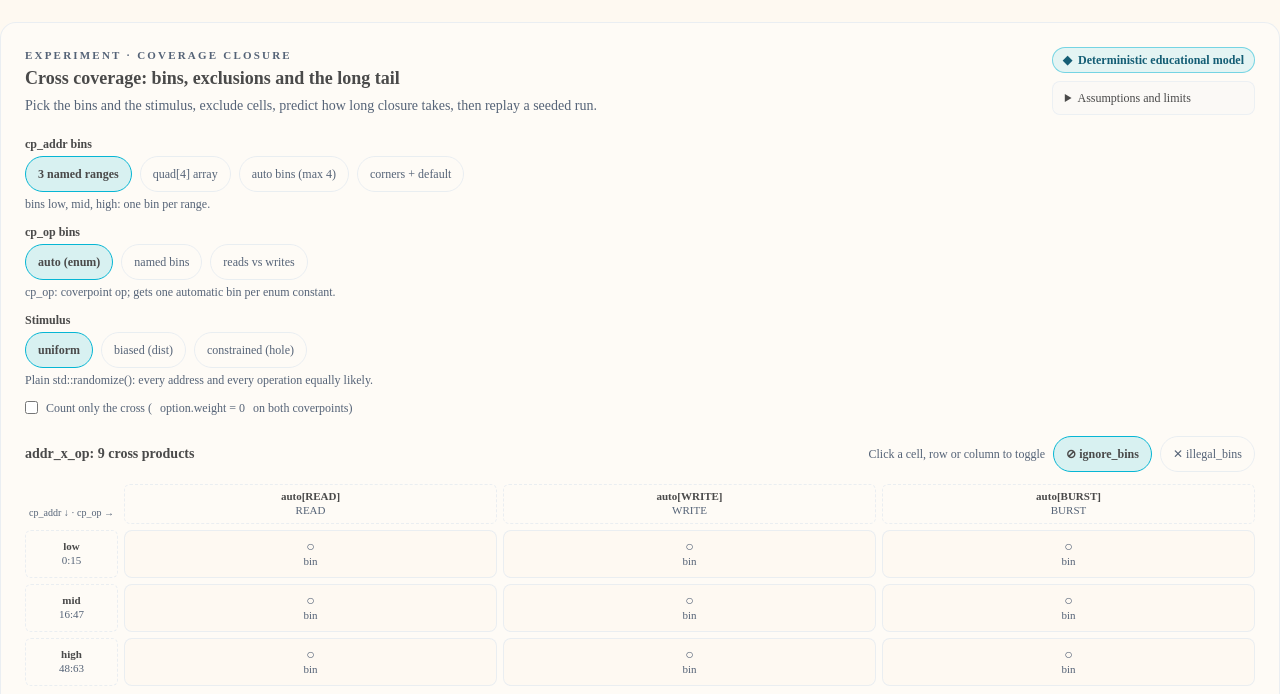
Test: CoverageCrossExplorerVisualizer › illegal-bin hits appear as run-time errors with the ✕ glyph
Click the radio button labelled "✕ illegal_bins".
click(1208, 454)  # box [1160,436,1255,472]
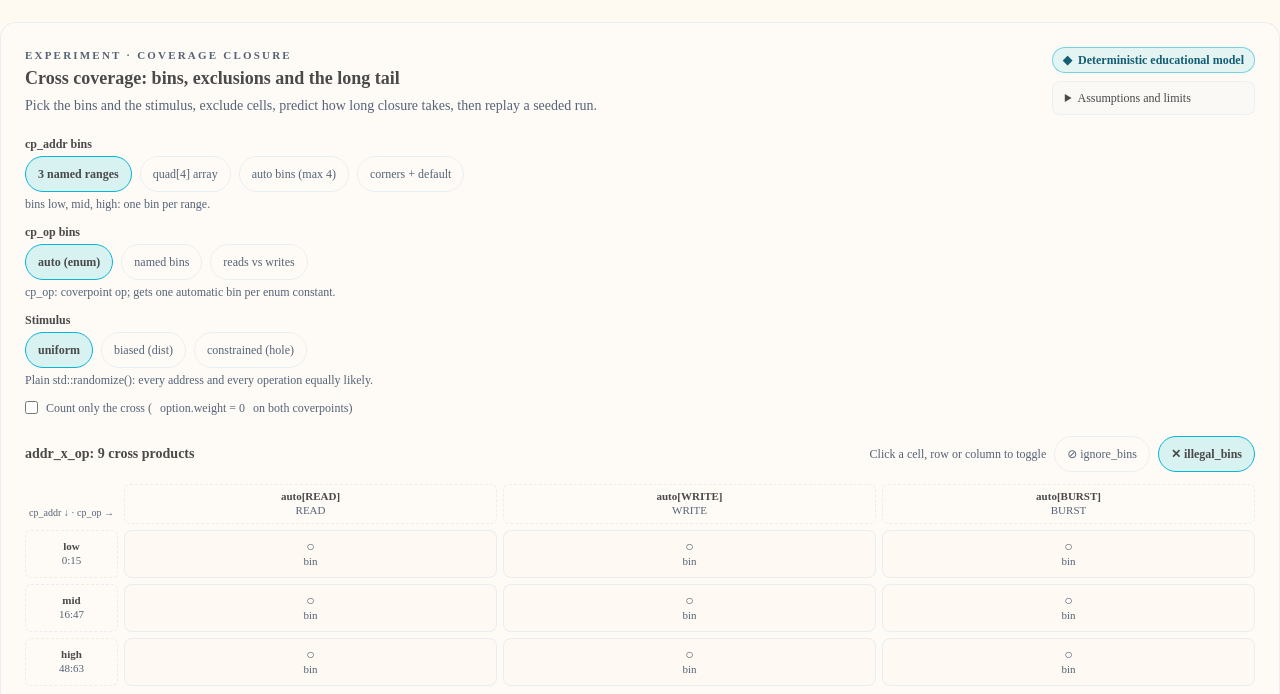
Click the 1st button "○ bin".
click(310, 554)  # box [124,530,497,578]
(page scrolled)
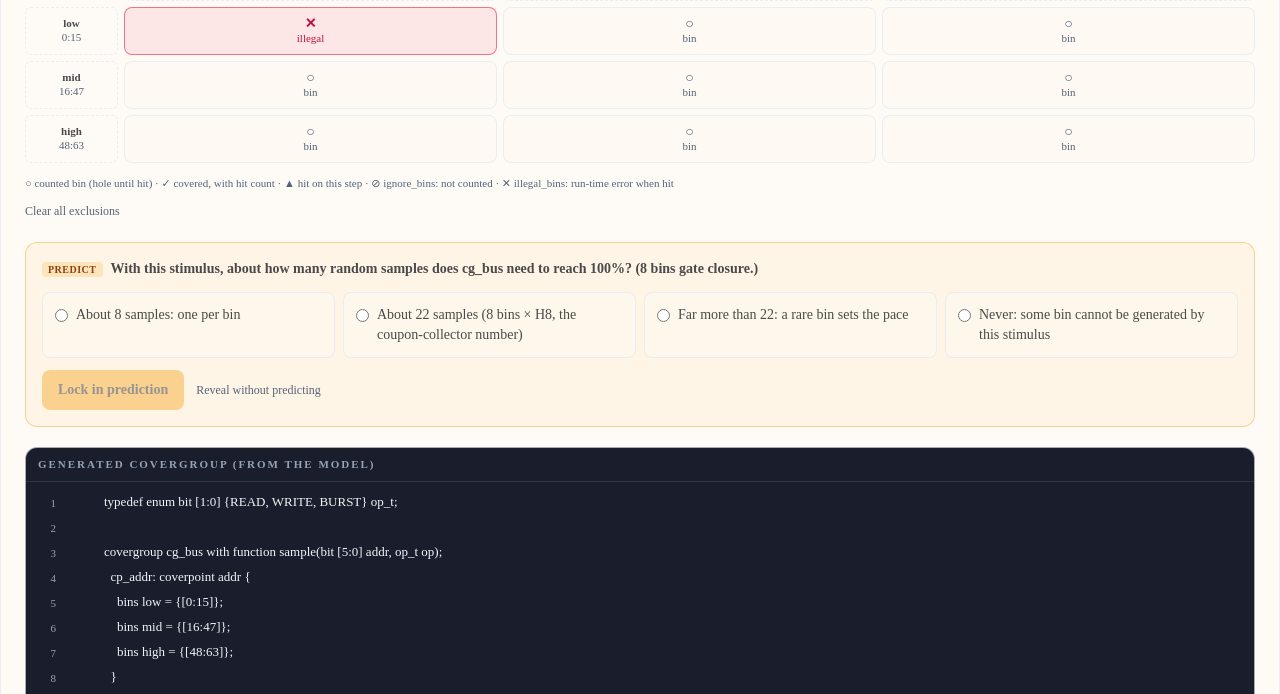
Click the button "Reveal without predicting".
click(258, 390)  # box [196,382,321,398]
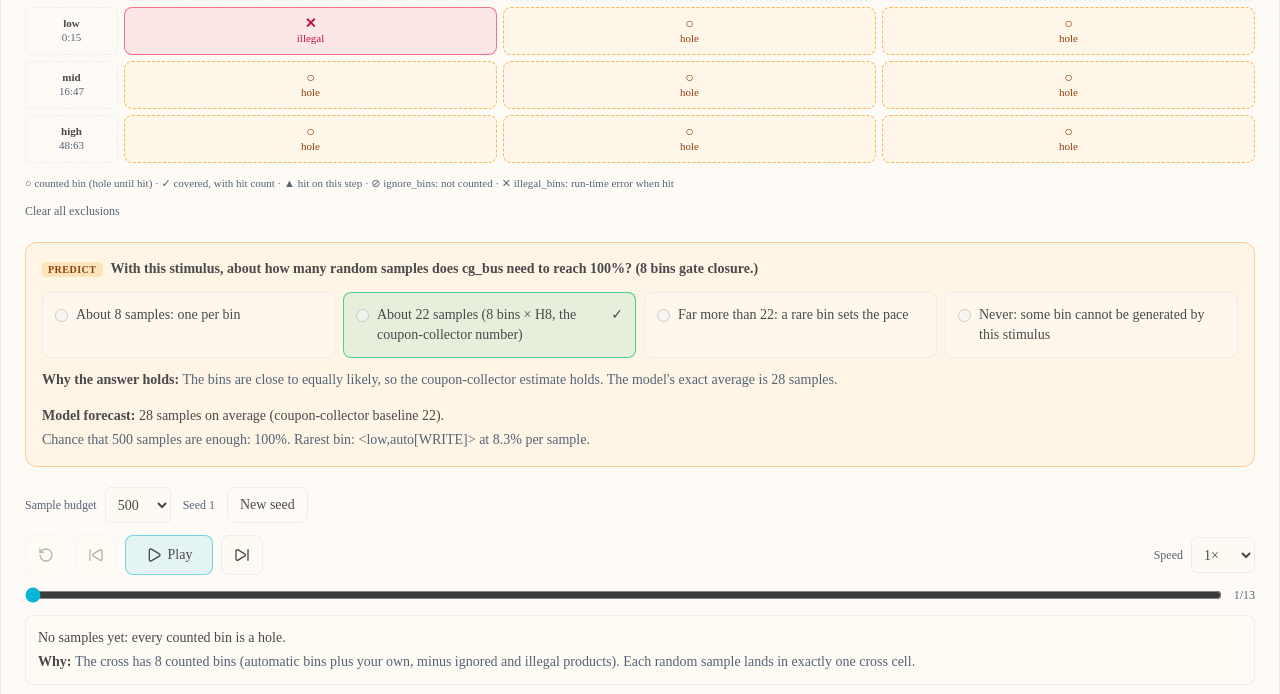
Set the slider named "coverage event scrubber" to "12" at (1214, 595), box [25,591,1222,599]
(page scrolled)
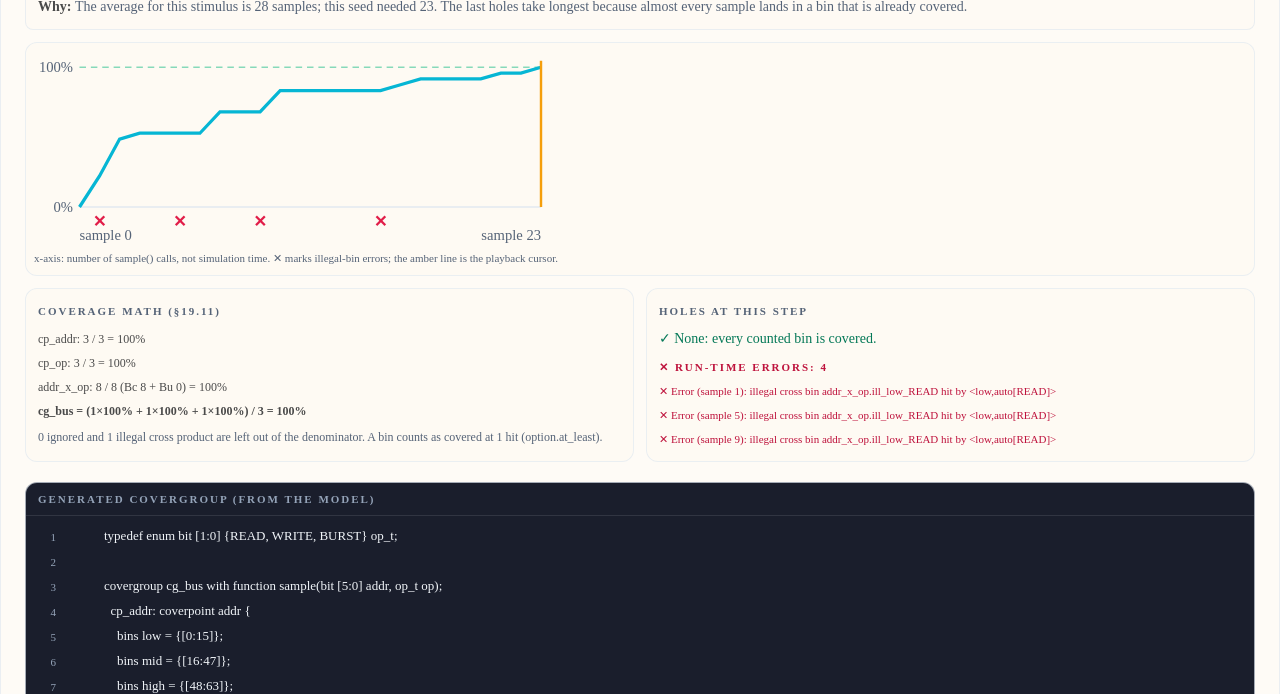
Expected: the text "✕ Run-time errors: 4" is shown, [659,360,828,372]
Expected: the list item that starts with "✕ Error (sample" is shown, [659,384,1056,396]
